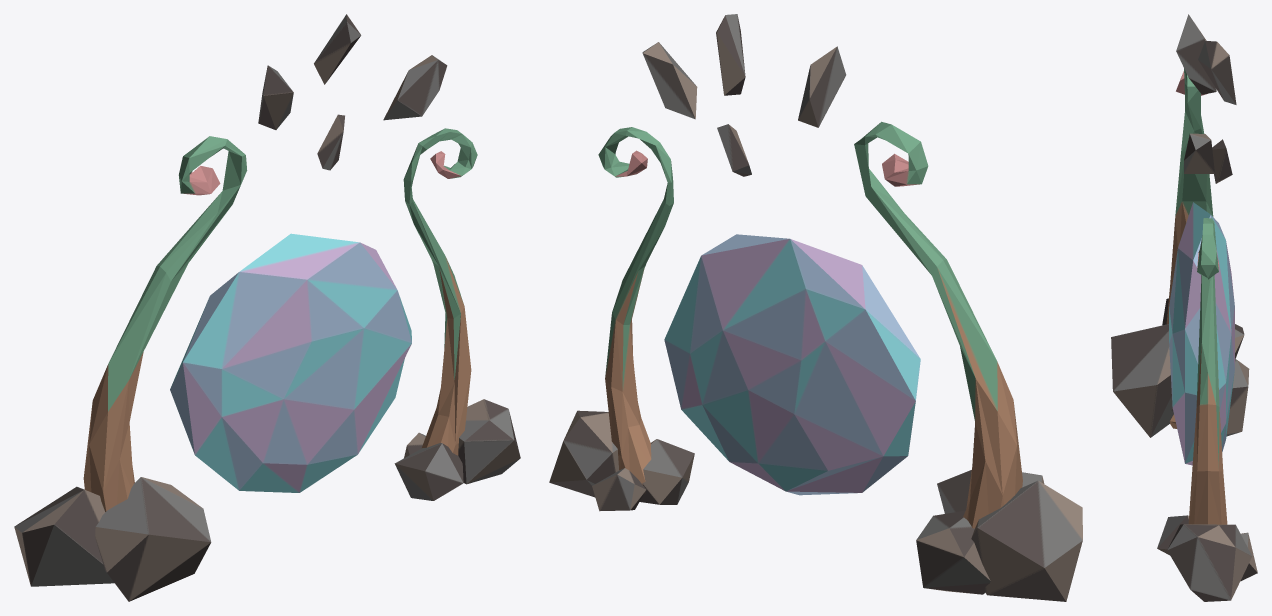
File: Isla_Bosque_Portal.FBX
The picture shows the model from 3 angles, left to right: view 1: azimuth 30°, elevation 25°; view 2: azimuth 150°, elevation 25°; view 3: azimuth 270°, elevation 25°; orthographic projection. The views are drawn at different scales.
Visible parts, largest first — view 1: Isla_Bosque_Portal_centro, Isla_Bosque_Portal_postes, Isla_Bosque_Portal_roca_01, Isla_Bosque_Portal_roca_04, Isla_Bosque_Portal_roca_03, Isla_Bosque_Portal_roca_02; view 2: Isla_Bosque_Portal_centro, Isla_Bosque_Portal_postes, Isla_Bosque_Portal_roca_01, Isla_Bosque_Portal_roca_04, Isla_Bosque_Portal_roca_03, Isla_Bosque_Portal_roca_02; view 3: Isla_Bosque_Portal_postes, Isla_Bosque_Portal_centro, Isla_Bosque_Portal_roca_04, Isla_Bosque_Portal_roca_03, Isla_Bosque_Portal_roca_01, Isla_Bosque_Portal_roca_02.
Boxes of the visible parts, x1,y1,x2,y2 form: Isla_Bosque_Portal_centro: (170, 233, 411, 492); Isla_Bosque_Portal_postes: (14, 128, 520, 601); Isla_Bosque_Portal_roca_01: (383, 55, 447, 120); Isla_Bosque_Portal_roca_04: (258, 65, 293, 129); Isla_Bosque_Portal_roca_03: (314, 14, 361, 84); Isla_Bosque_Portal_roca_02: (317, 114, 344, 170); Isla_Bosque_Portal_centro: (664, 234, 920, 495); Isla_Bosque_Portal_postes: (549, 121, 1082, 601); Isla_Bosque_Portal_roca_01: (642, 42, 697, 119); Isla_Bosque_Portal_roca_04: (798, 46, 846, 127); Isla_Bosque_Portal_roca_03: (716, 14, 745, 95); Isla_Bosque_Portal_roca_02: (717, 124, 751, 176); Isla_Bosque_Portal_postes: (1111, 68, 1257, 601); Isla_Bosque_Portal_centro: (1169, 202, 1234, 465); Isla_Bosque_Portal_roca_04: (1176, 14, 1216, 94); Isla_Bosque_Portal_roca_03: (1198, 41, 1236, 104); Isla_Bosque_Portal_roca_01: (1184, 133, 1214, 173); Isla_Bosque_Portal_roca_02: (1212, 139, 1232, 183).
Bounding box in the file's own units: 166 × 162 × 42.87.
Materials: 1 (1 with a texture image).
